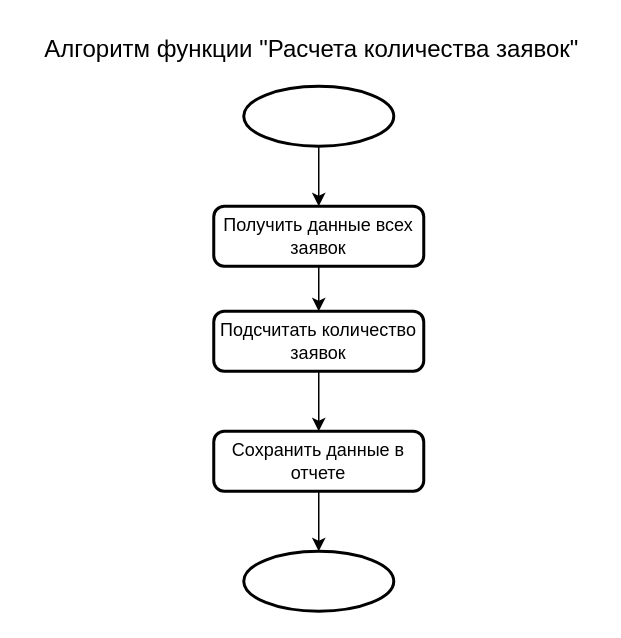
Image size: 621x638. Some labels were removed from this diagram. The box of each missing label's shape, as (x1, y1, x2, y2) in pixels:
Конец: (242, 549, 394, 612)
Начало: (242, 84, 394, 147)
